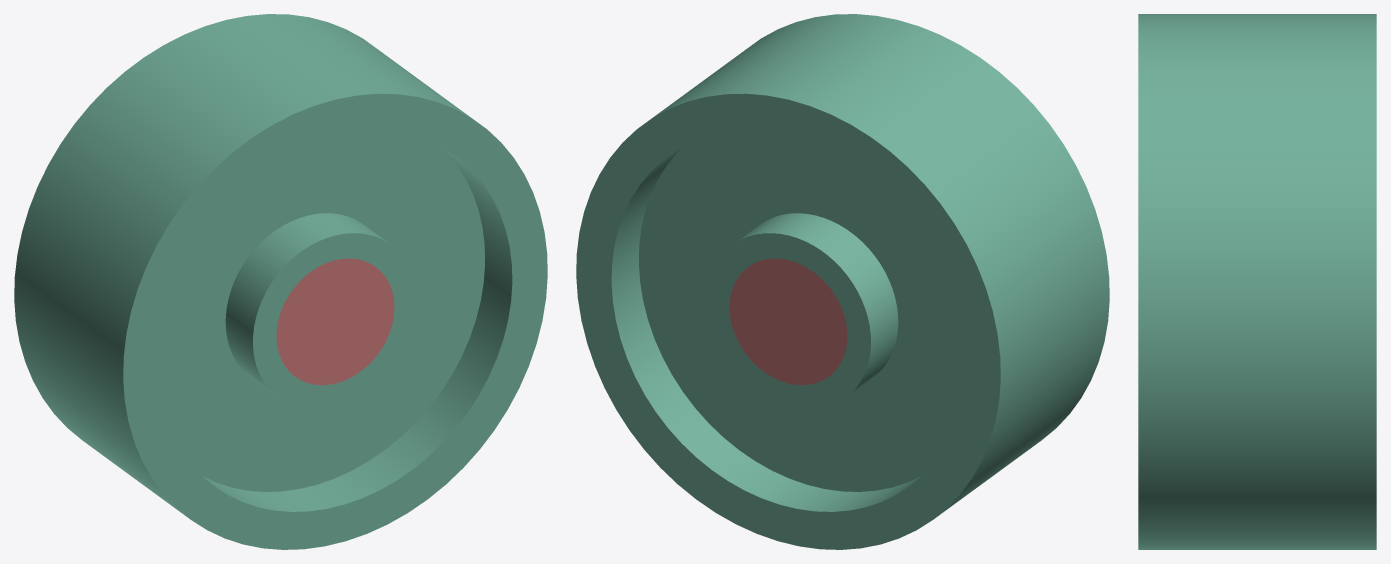
Rendered from step_12.glb.
3 renders of one model, left to right at view 1: azimuth 30°, elevation 25°; view 2: azimuth 150°, elevation 25°; view 3: azimuth 270°, elevation 25°, orthographic. The views are drawn at different scales.
Parts seen in each view (by area): view 1: part__wheel centre, removed__wheel centre; view 2: part__wheel centre, removed__wheel centre; view 3: part__wheel centre.
Part boxes in pixels (<box>): part__wheel centre: <box>14,14,547,549</box>; removed__wheel centre: <box>276,258,394,385</box>; part__wheel centre: <box>576,14,1109,549</box>; removed__wheel centre: <box>729,258,847,385</box>; part__wheel centre: <box>1138,14,1376,549</box>.
Bounding box in the file's own units: 71.98 × 71.96 × 32.
